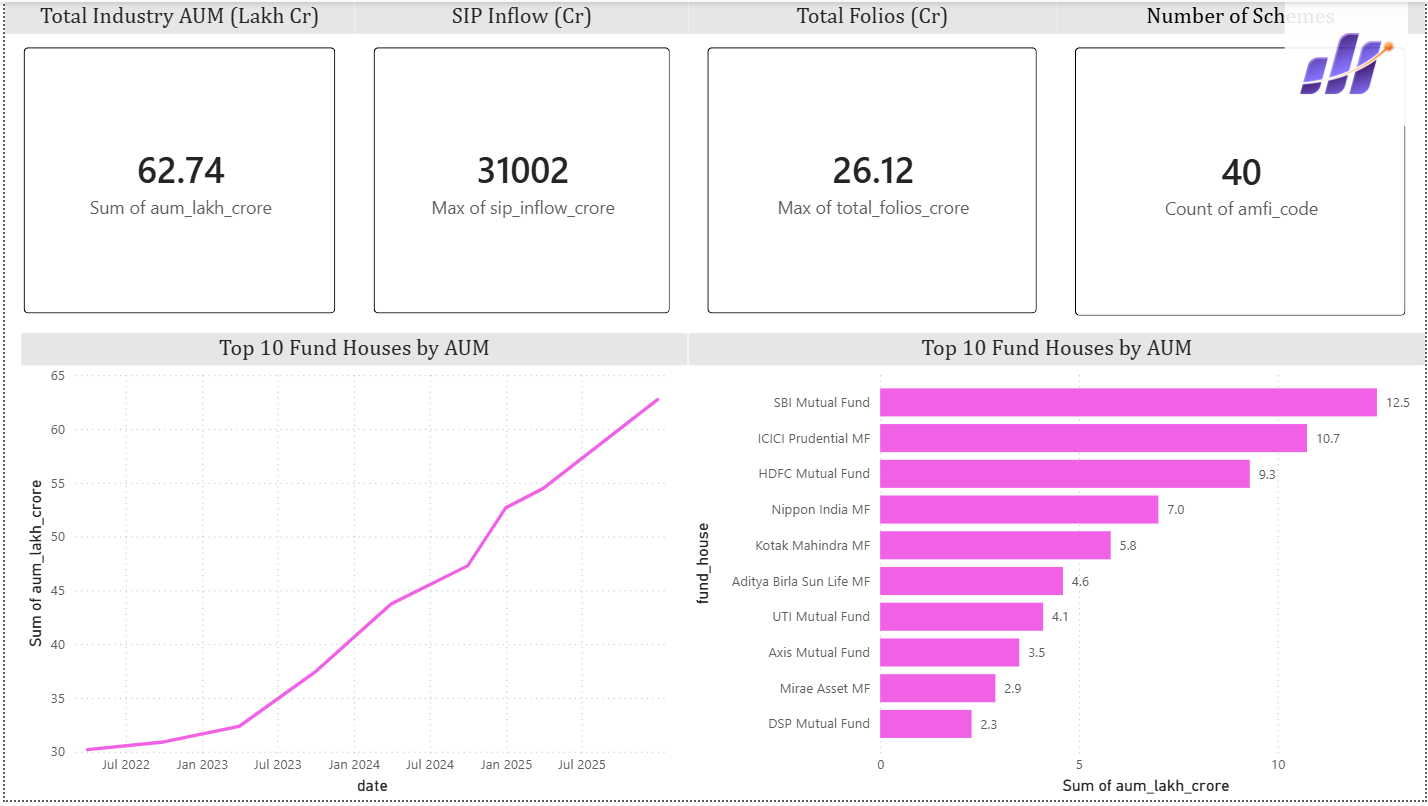

This screenshot's page, from the dashboard's own definition file:
{"tool":"powerbi","page":{"name":"Industry Overview","canvas":[1280,720],"ordinal":0},"visuals":[{"type":"cardVisual","title":"Total Industry AUM (Lakh Cr)","fields":{"Data":["Sum(clean_aum_by_fund_house.aum_lakh_crore)"]},"box":[0,0,315.1,298.8],"z":0},{"type":"cardVisual","title":"SIP Inflow (Cr)","fields":{"Data":["Max(clean_monthly_sip_inflows.sip_inflow_crore)"]},"box":[315.1,0,301.2,298.8],"z":1000},{"type":"cardVisual","title":"Total Folios (Cr)","fields":{"Data":["Max(clean_industry_folio_count.total_folios_crore)"]},"box":[616.3,0,331.4,298.8],"z":2000},{"type":"cardVisual","title":"Number of Schemes","fields":{"Data":["Count(clean_fund_master.amfi_code)"]},"box":[947.7,0,332.6,300],"z":3000},{"type":"lineChart","title":"Top 10 Fund Houses by AUM","fields":{"Y":["Sum(clean_aum_by_fund_house.aum_lakh_crore)"],"Category":["clean_aum_by_fund_house.date"]},"box":[15.1,299.1,601,421.3],"z":4000},{"type":"clusteredBarChart","title":"Top 10 Fund Houses by AUM","fields":{"Y":["Sum(clean_aum_by_fund_house.aum_lakh_crore)"],"Category":["clean_aum_by_fund_house.fund_house"]},"box":[616.1,299.1,664.2,421.3],"z":5000},{"type":"image","box":[1140,0,140,111.7],"z":5001}]}

Visuals, with their boxes in screenshot pixels (x1, y1, x2, y2), scaled from the page's 1280x720 canvas onto the 1428x806 screenshot:
"Total Industry AUM (Lakh Cr)" cardVisual: BBox(0, 0, 352, 334)
"SIP Inflow (Cr)" cardVisual: BBox(352, 0, 688, 334)
"Total Folios (Cr)" cardVisual: BBox(688, 0, 1057, 334)
"Number of Schemes" cardVisual: BBox(1057, 0, 1427, 336)
"Top 10 Fund Houses by AUM" lineChart: BBox(17, 335, 687, 805)
"Top 10 Fund Houses by AUM" clusteredBarChart: BBox(687, 335, 1427, 805)
image: BBox(1272, 0, 1427, 125)
